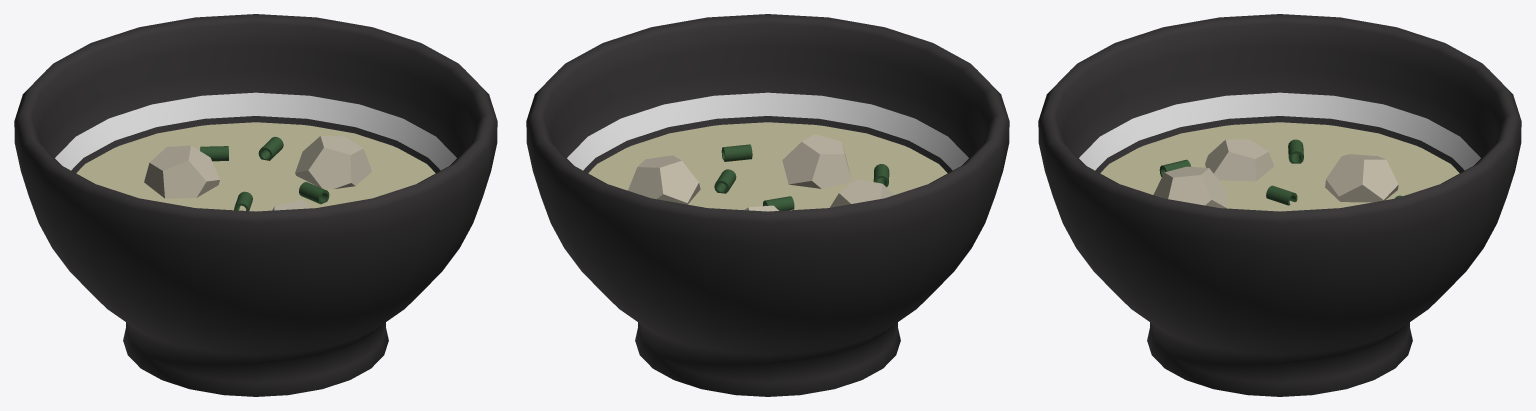
The model's file is Rice_Gruel_3_4.fbx.
3 views of the same model, side by side, from view 1: azimuth 30°, elevation 25°; view 2: azimuth 150°, elevation 25°; view 3: azimuth 270°, elevation 25° (orthographic).
Parts seen in each view (by area): view 1: pPlatonic7; view 2: pPlatonic7; view 3: pPlatonic7.
Boxes of the visible parts, box(x1,y1,x2,y2) form: pPlatonic7: box(14, 14, 497, 396); pPlatonic7: box(526, 14, 1009, 396); pPlatonic7: box(1038, 14, 1521, 396).
Bounding box in the file's own units: 2.11 × 1.12 × 2.11.
